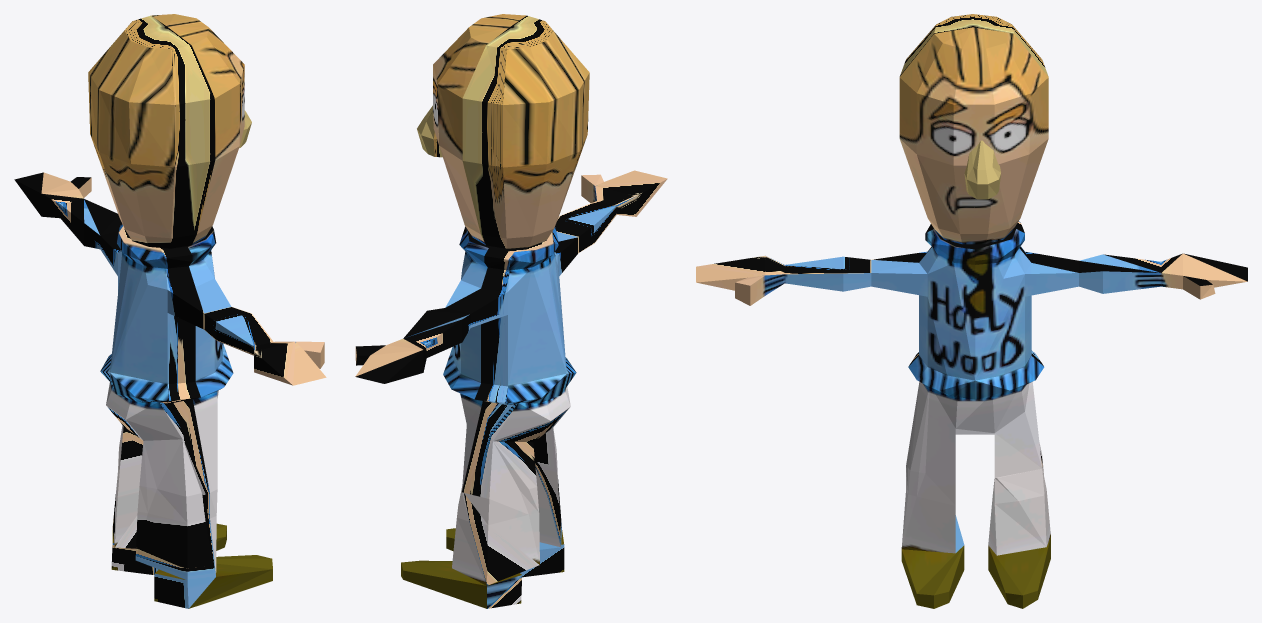
File: Pipbak.glb
The picture shows the model from 3 angles, left to right: view 1: azimuth 30°, elevation 25°; view 2: azimuth 150°, elevation 25°; view 3: azimuth 270°, elevation 25°; orthographic projection.
Parts seen in each view (by area): view 1: Pipbak; view 2: Pipbak; view 3: Pipbak.
Boxes of the visible parts, box(x1,y1,x2,y2) form: Pipbak: box(14, 14, 326, 608); Pipbak: box(355, 14, 667, 608); Pipbak: box(696, 14, 1247, 608).
Size of the model in its own units: 33.96 by 116 by 107.
1 material, 1 textured.
